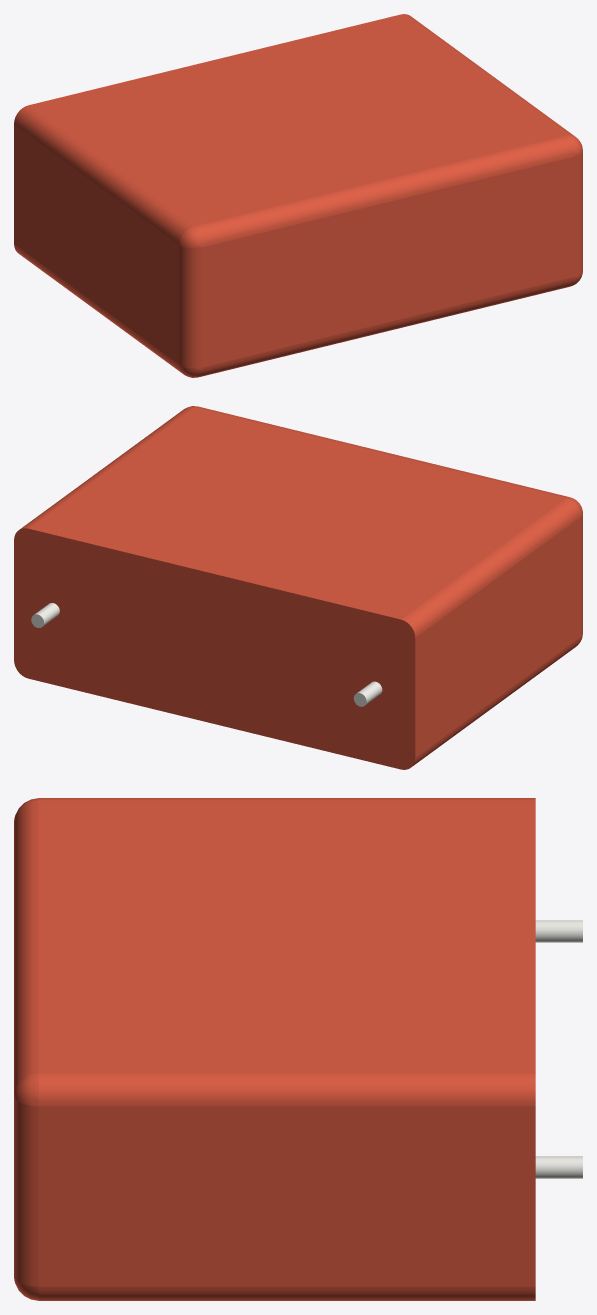
File: C_Rect_L28.0mm_W10.0mm_P22.50mm_MKS4.glb
The picture shows the model from 3 angles, top to bottom: view 1: azimuth 30°, elevation 25°; view 2: azimuth 150°, elevation 25°; view 3: azimuth 270°, elevation 25°; orthographic projection. The views are drawn at different scales.
Visible parts, largest first — view 1: Shape_IndexedFaceSet.009, Shape_IndexedFaceSet.008, Shape_IndexedFaceSet, Shape_IndexedFaceSet.016, Shape_IndexedFaceSet.004, Shape_IndexedFaceSet.015, Shape_IndexedFaceSet.002, Shape_IndexedFaceSet.001, Shape_IndexedFaceSet.017, Shape_IndexedFaceSet.011; view 2: Shape_IndexedFaceSet.009, Shape_IndexedFaceSet.003, Shape_IndexedFaceSet, Shape_IndexedFaceSet.004, Shape_IndexedFaceSet.001, Shape_IndexedFaceSet.011, Shape_IndexedFaceSet.016; view 3: Shape_IndexedFaceSet.009, Shape_IndexedFaceSet.012, Shape_IndexedFaceSet.011, Shape_IndexedFaceSet.010, Shape_IndexedFaceSet.016, Shape_IndexedFaceSet.017, Shape_IndexedFaceSet.004, Shape_IndexedFaceSet.013, Shape_IndexedFaceSet.014, Shape_IndexedFaceSet.019.
Boxes of the visible parts, x1,y1,x2,y2 form: Shape_IndexedFaceSet.009: (29,14,565,226); Shape_IndexedFaceSet.008: (202,156,574,367); Shape_IndexedFaceSet: (14,124,179,364); Shape_IndexedFaceSet.016: (194,135,574,247); Shape_IndexedFaceSet.004: (14,105,193,244); Shape_IndexedFaceSet.015: (199,276,574,376); Shape_IndexedFaceSet.002: (179,245,201,368); Shape_IndexedFaceSet.001: (14,244,182,373); Shape_IndexedFaceSet.017: (574,152,582,276); Shape_IndexedFaceSet.011: (401,14,573,135); Shape_IndexedFaceSet.009: (29,407,565,619); Shape_IndexedFaceSet.003: (14,528,415,769); Shape_IndexedFaceSet: (415,517,580,757); Shape_IndexedFaceSet.004: (401,498,580,637); Shape_IndexedFaceSet.001: (412,637,580,766); Shape_IndexedFaceSet.011: (20,407,193,529); Shape_IndexedFaceSet.016: (194,406,569,498); Shape_IndexedFaceSet.009: (39,800,535,1073); Shape_IndexedFaceSet.012: (39,1106,535,1286); Shape_IndexedFaceSet.011: (39,1073,535,1106); Shape_IndexedFaceSet.010: (39,1286,535,1300); Shape_IndexedFaceSet.016: (14,800,38,1093); Shape_IndexedFaceSet.017: (14,1096,38,1286); Shape_IndexedFaceSet.004: (39,798,535,800); Shape_IndexedFaceSet.013: (535,920,582,942); Shape_IndexedFaceSet.014: (535,1156,582,1178); Shape_IndexedFaceSet.019: (14,1073,38,1106).
Size of the model in its own units: 11.02 by 3.94 by 9.02.
